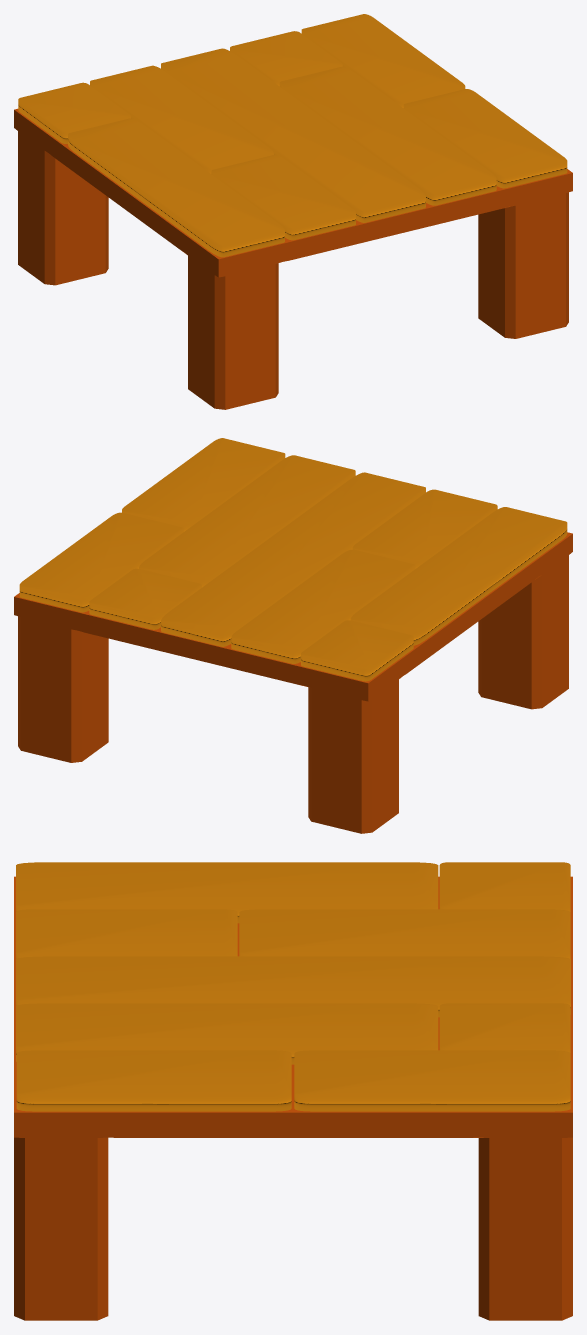
File: Unity HD Render Pipeline (Metallic Standard).fbx
3 views of the same model, one above another, from view 1: azimuth 30°, elevation 25°; view 2: azimuth 150°, elevation 25°; view 3: azimuth 270°, elevation 25° (orthographic). The views are drawn at different scales.
Parts seen in each view (by area): view 1: Foundation (×2); view 2: Foundation (×2); view 3: Foundation (×2).
Boxes of the visible parts, box(x1,y1,x2,y2) form: Foundation (×2): box(14, 14, 572, 409); Foundation (×2): box(14, 438, 572, 833); Foundation (×2): box(14, 862, 572, 1320).
Size of the model in its own units: 2 by 0.8807 by 2.
